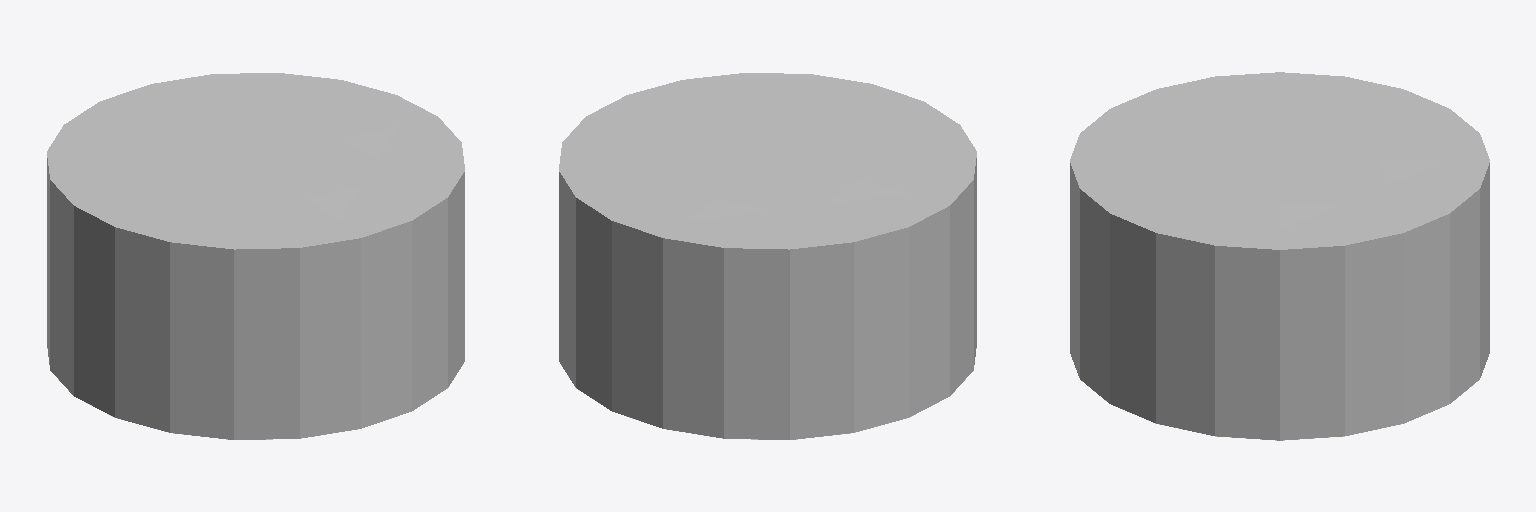
File: node_green.obj
3 renders of one model, left to right at view 1: azimuth 30°, elevation 25°; view 2: azimuth 150°, elevation 25°; view 3: azimuth 270°, elevation 25°, orthographic.
Visible parts, largest first — view 1: 柱体_柱体.001, 圆环.001_圆环.002, 平面.015_平面.016, 平面.009_平面.010, 平面.013_平面.014, 平面.011_平面.012, 平面.010_平面.011, 平面.012_平面.013, 平面.014_平面.015, 平面.008_平面.009; view 2: 柱体_柱体.001, 圆环.001_圆环.002, 平面.011_平面.012, 平面.009_平面.010, 平面.013_平面.014, 平面.015_平面.016, 平面.012_平面.013, 平面.014_平面.015, 平面.010_平面.011, 平面.008_平面.009; view 3: 柱体_柱体.001, 圆环.001_圆环.002, 平面.013_平面.014, 平面.015_平面.016, 平面.011_平面.012, 平面.009_平面.010, 平面.008_平面.009, 平面.010_平面.011, 平面.014_平面.015, 平面.012_平面.013.
Part boxes in pixels (x1,y1,x2,y2): 柱体_柱体.001: (47,158,464,439); 圆环.001_圆环.002: (47,73,464,249); 平面.015_平面.016: (258,187,359,220); 平面.009_平面.010: (114,160,193,202); 平面.013_平面.014: (318,117,397,159); 平面.011_平面.012: (152,101,252,134); 平面.010_平面.011: (186,118,260,154); 平面.012_平面.013: (269,132,355,162); 平面.014_平面.015: (252,166,324,202); 平面.008_平面.009: (159,159,242,189); 柱体_柱体.001: (559,158,976,439); 圆环.001_圆环.002: (559,73,976,249); 平面.011_平面.012: (664,187,765,220); 平面.009_平面.010: (830,160,909,202); 平面.013_平面.014: (626,117,705,159); 平面.015_平面.016: (771,101,871,134); 平面.012_平面.013: (668,132,754,162); 平面.014_平面.015: (763,118,837,154); 平面.010_平面.011: (699,166,771,202); 平面.008_平面.009: (781,159,864,189); 柱体_柱体.001: (1070,163,1489,440); 圆环.001_圆环.002: (1070,72,1489,249); 平面.013_平面.014: (1221,204,1338,229); 平面.015_平面.016: (1116,136,1177,185); 平面.011_平面.012: (1382,136,1443,185); 平面.009_平面.010: (1221,90,1338,115); 平面.008_平面.009: (1259,115,1300,149); 平面.010_平面.011: (1306,152,1382,169); 平面.014_平面.015: (1177,152,1253,169); 平面.012_平面.013: (1259,172,1300,203).
Bounding box in the file's own units: 32 × 16.3 × 32.